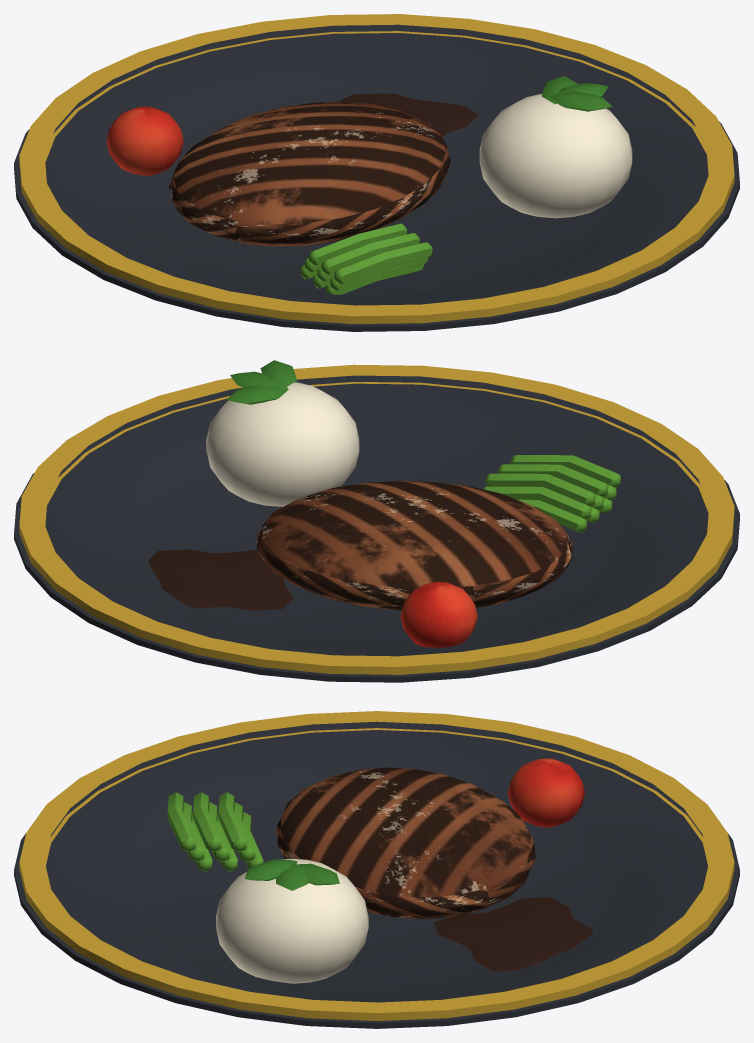
Rendered from meal_steak_dinner.glb.
The picture shows the model from 3 angles, top to bottom: view 1: azimuth 30°, elevation 25°; view 2: azimuth 150°, elevation 25°; view 3: azimuth 270°, elevation 25°; orthographic projection.
Parts seen in each view (by area): view 1: meal_steak_dinner; view 2: meal_steak_dinner; view 3: meal_steak_dinner.
Part boxes in pixels (bbox=[...]): meal_steak_dinner: bbox=[14, 14, 739, 331]; meal_steak_dinner: bbox=[14, 360, 739, 682]; meal_steak_dinner: bbox=[14, 711, 739, 1028].
Bounding box in the file's own units: 0.3 × 0.0555 × 0.3.
8 materials, 2 textured.
